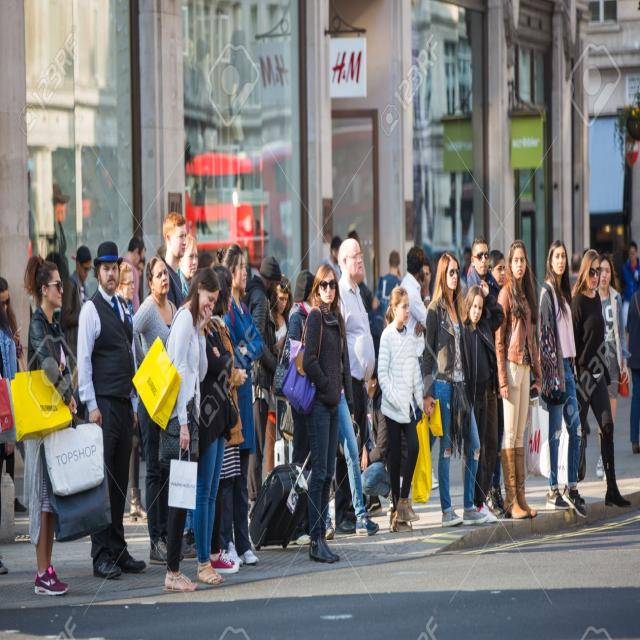body: (131, 266, 222, 596), (74, 238, 149, 584), (9, 252, 80, 600), (278, 261, 358, 567), (174, 30, 263, 272), (420, 249, 491, 531), (187, 263, 242, 587), (131, 256, 185, 564), (570, 248, 633, 510), (216, 242, 264, 566), (536, 237, 589, 521), (376, 284, 435, 535), (493, 237, 544, 521), (333, 237, 380, 538), (272, 267, 317, 548), (459, 235, 503, 520), (209, 264, 249, 568), (332, 356, 394, 544), (459, 280, 504, 521), (242, 254, 283, 510), (114, 261, 148, 526), (595, 252, 631, 482), (176, 234, 198, 546), (263, 273, 295, 486), (484, 248, 507, 518), (0, 308, 19, 577), (398, 243, 432, 379), (325, 222, 374, 309), (60, 245, 93, 374), (568, 231, 623, 306), (371, 249, 405, 350), (623, 273, 640, 456), (422, 242, 474, 298), (0, 276, 30, 372), (162, 210, 188, 312), (118, 233, 147, 314), (621, 240, 639, 367), (136, 256, 146, 278)
